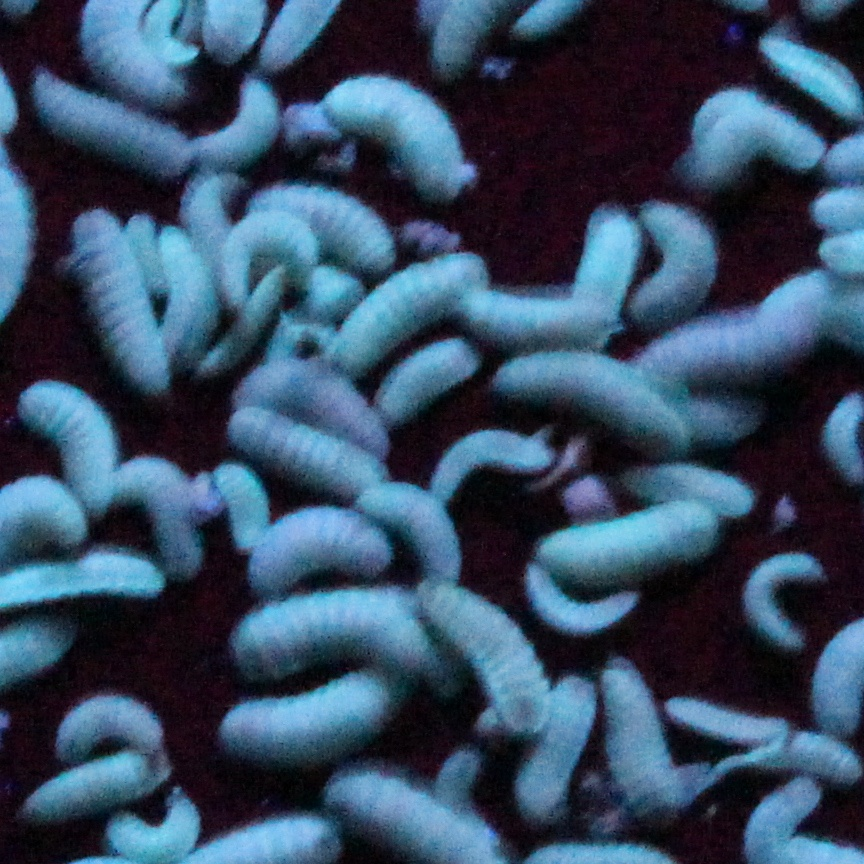larve: (500, 350, 676, 457), (325, 78, 475, 198), (668, 284, 832, 383), (433, 586, 548, 726), (82, 218, 174, 392), (220, 680, 413, 762), (227, 596, 423, 673), (342, 258, 478, 359), (47, 87, 188, 182), (601, 659, 680, 814), (235, 413, 372, 496), (243, 373, 390, 446), (636, 198, 722, 317), (700, 98, 825, 178), (120, 463, 209, 570), (521, 682, 591, 814), (243, 519, 391, 581), (25, 758, 172, 818), (519, 570, 648, 638), (270, 190, 391, 262), (368, 492, 469, 577), (30, 393, 113, 496), (539, 527, 717, 575), (192, 79, 284, 169), (154, 237, 215, 372), (734, 556, 818, 650), (46, 690, 161, 758), (462, 285, 591, 344), (569, 207, 637, 308), (388, 348, 480, 422), (675, 695, 788, 755), (214, 219, 320, 277), (103, 806, 203, 858), (213, 468, 274, 548), (124, 213, 171, 292), (147, 4, 196, 69)
